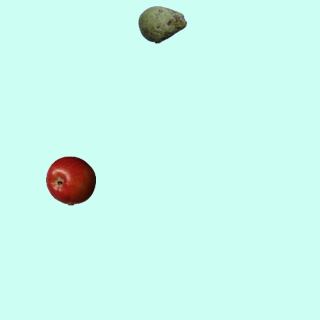Apple Braeburn: (45, 155, 95, 205)
Pear Stone: (137, 0, 187, 49)
